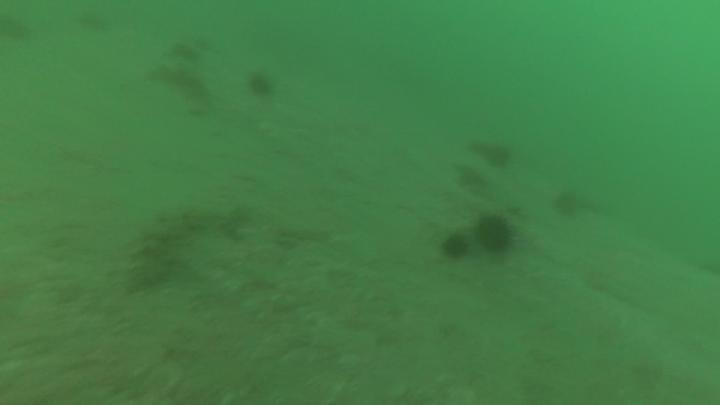echinus: (474, 212, 515, 256), (76, 4, 113, 35), (166, 38, 204, 67), (441, 229, 473, 263), (1, 13, 35, 43), (553, 188, 584, 220), (480, 141, 512, 170), (247, 68, 276, 100)
holothurian: (124, 211, 185, 294)
